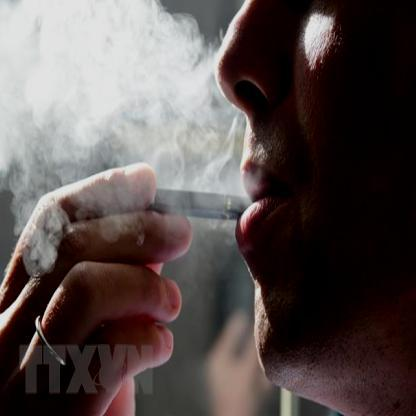cigarette: (151, 190, 252, 223)
smoke: (0, 0, 224, 185)
